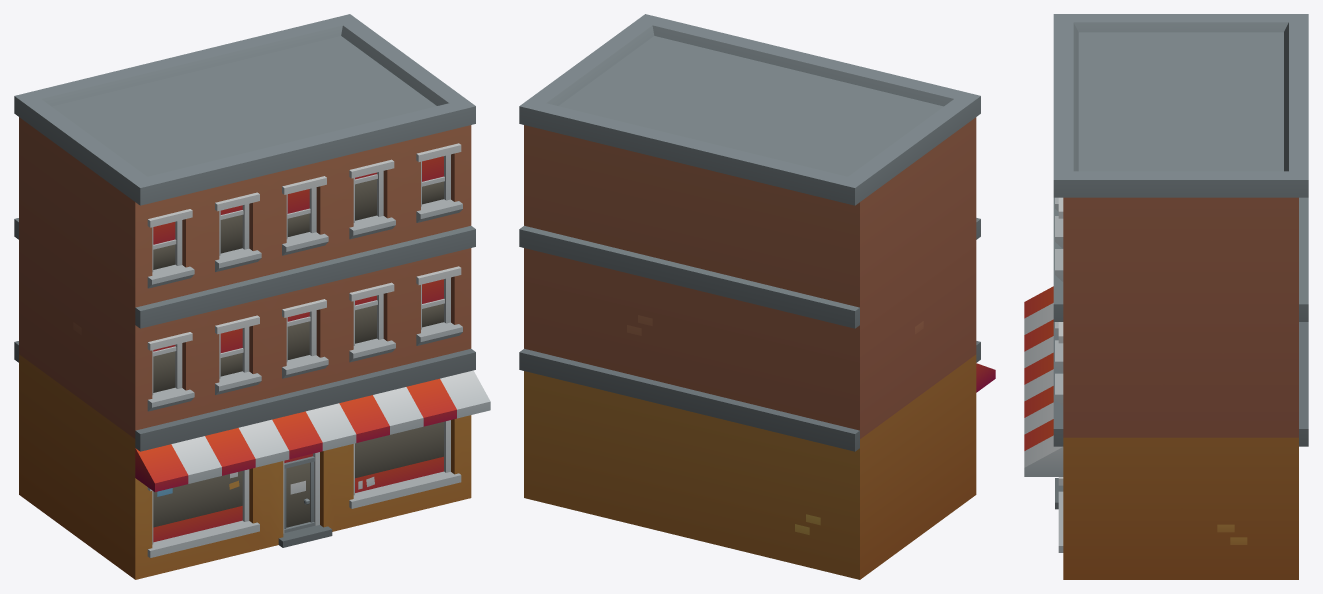
The model's file is city-building-e.glb.
3 renders of one model, left to right at view 1: azimuth 30°, elevation 25°; view 2: azimuth 150°, elevation 25°; view 3: azimuth 270°, elevation 25°, orthographic.
Visible parts, largest first — view 1: building_E_withoutBase; view 2: building_E_withoutBase; view 3: building_E_withoutBase.
Boxes of the visible parts, box(x1,y1,x2,y2) form: building_E_withoutBase: box(14, 14, 490, 579); building_E_withoutBase: box(519, 14, 995, 579); building_E_withoutBase: box(1024, 14, 1308, 579).
Bounding box in the file's own units: 2.01 × 2.25 × 1.45.
